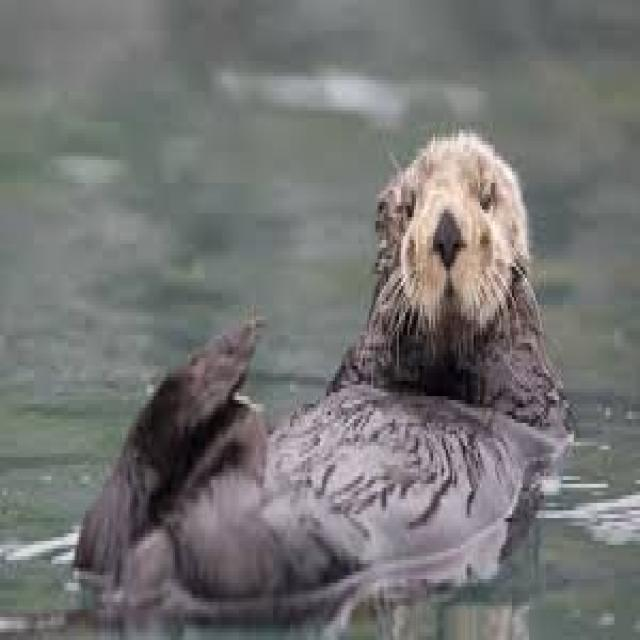Otter: (88, 126, 561, 618)
